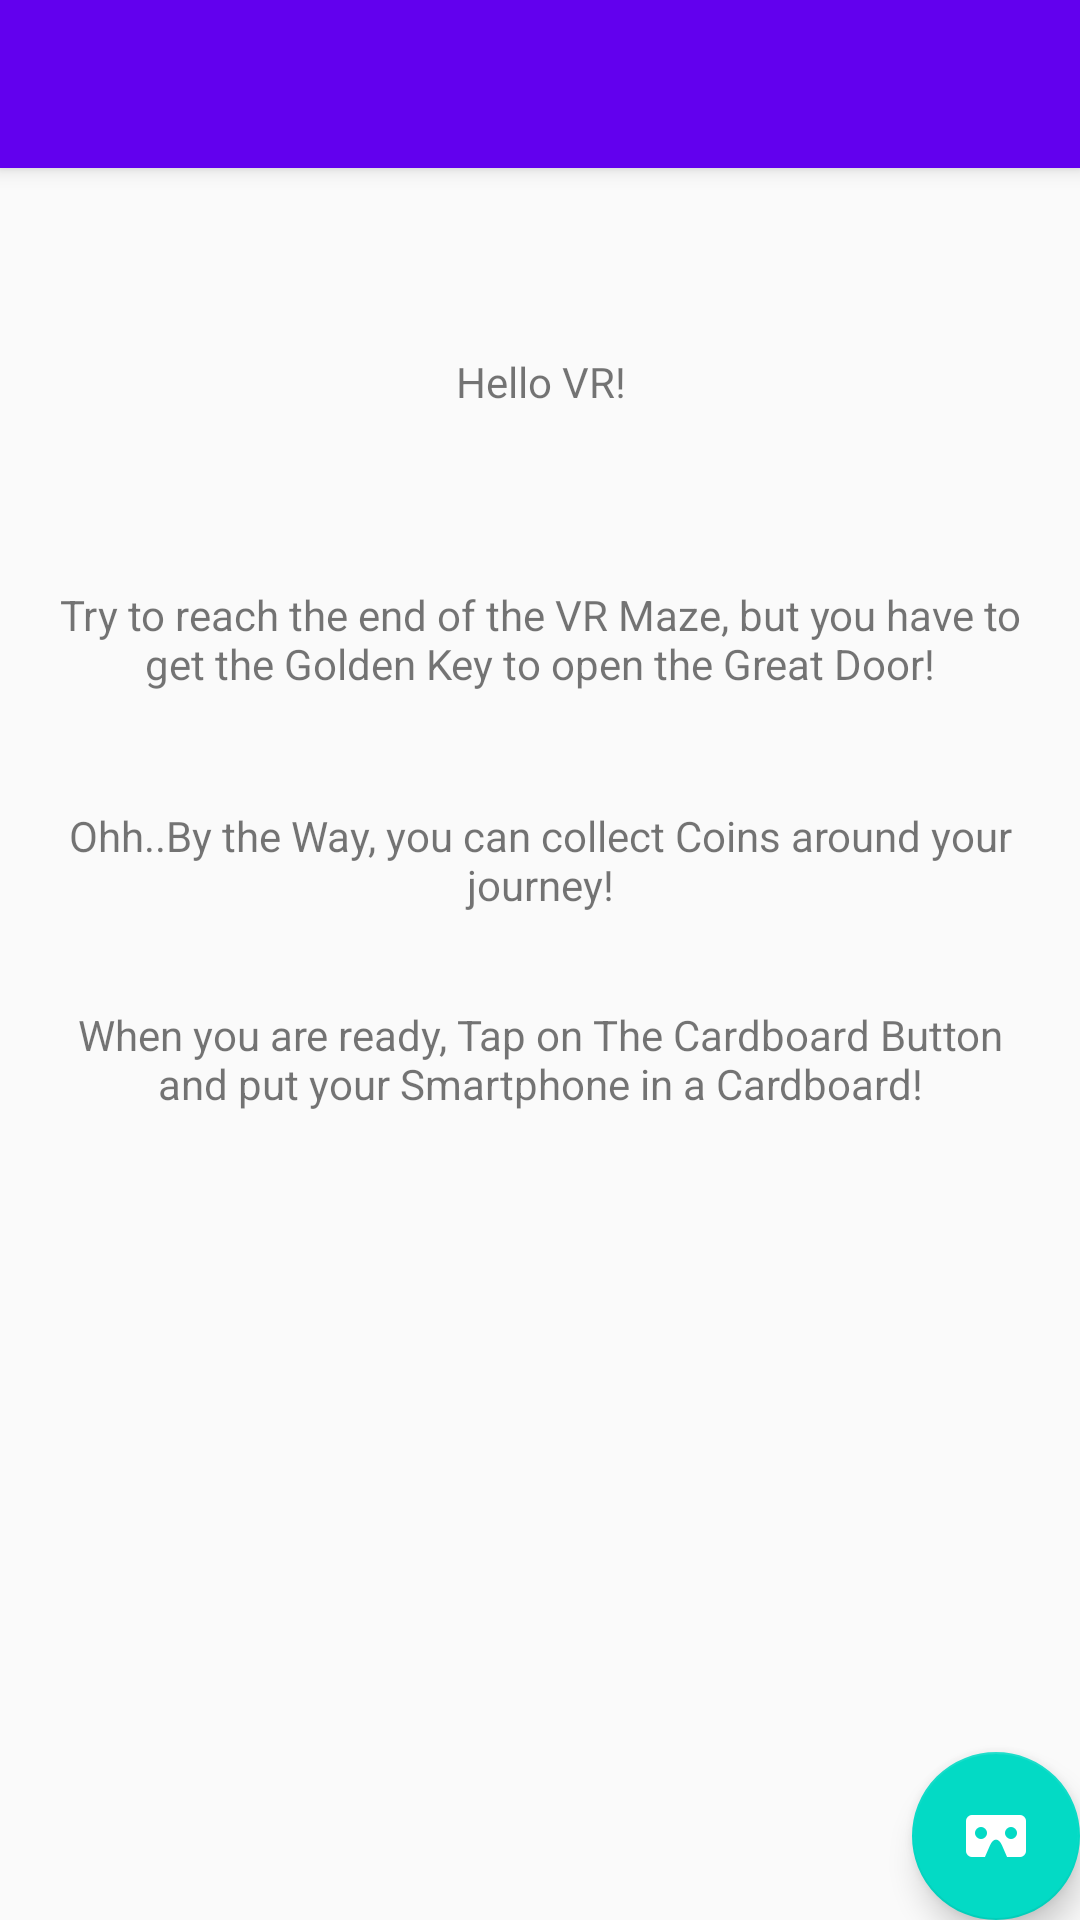

Where to tap for icons on this 1080x1920 app screen, as (x,y):
virtual: (996,1836)
